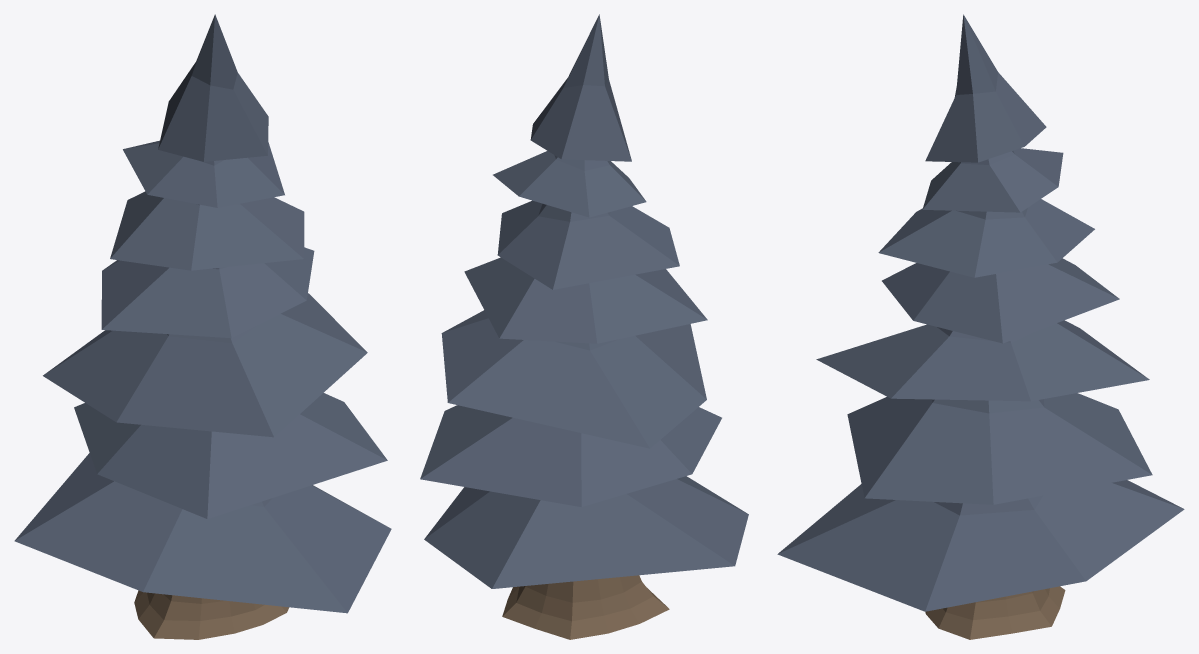
Rendered from P_fir_03_LD.fbx.
3 renders of one model, left to right at view 1: azimuth 30°, elevation 25°; view 2: azimuth 150°, elevation 25°; view 3: azimuth 270°, elevation 25°, orthographic. The views are drawn at different scales.
Parts seen in each view (by area): view 1: P_fir_03; view 2: P_fir_03; view 3: P_fir_03.
Boxes of the visible parts, left/top/right/bottom form: P_fir_03: left=14, top=14, right=391, bottom=639; P_fir_03: left=420, top=14, right=748, bottom=639; P_fir_03: left=777, top=14, right=1184, bottom=639.
Size of the model in its own units: 613 by 1079 by 679.
